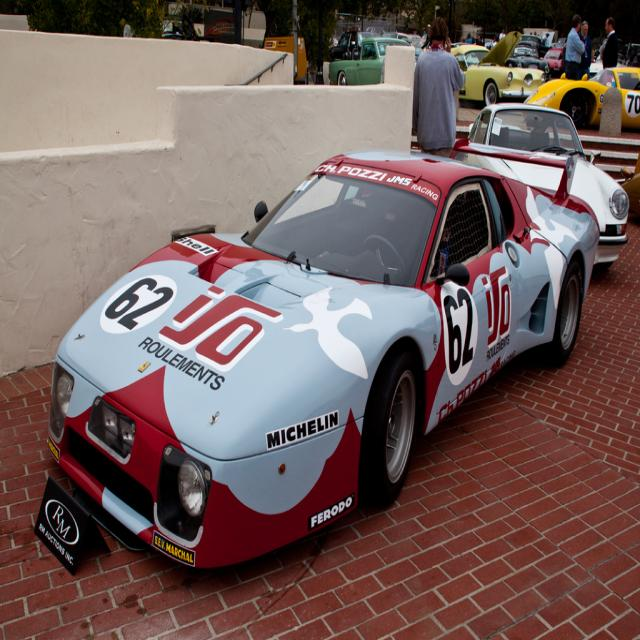car: (46, 144, 600, 581)
